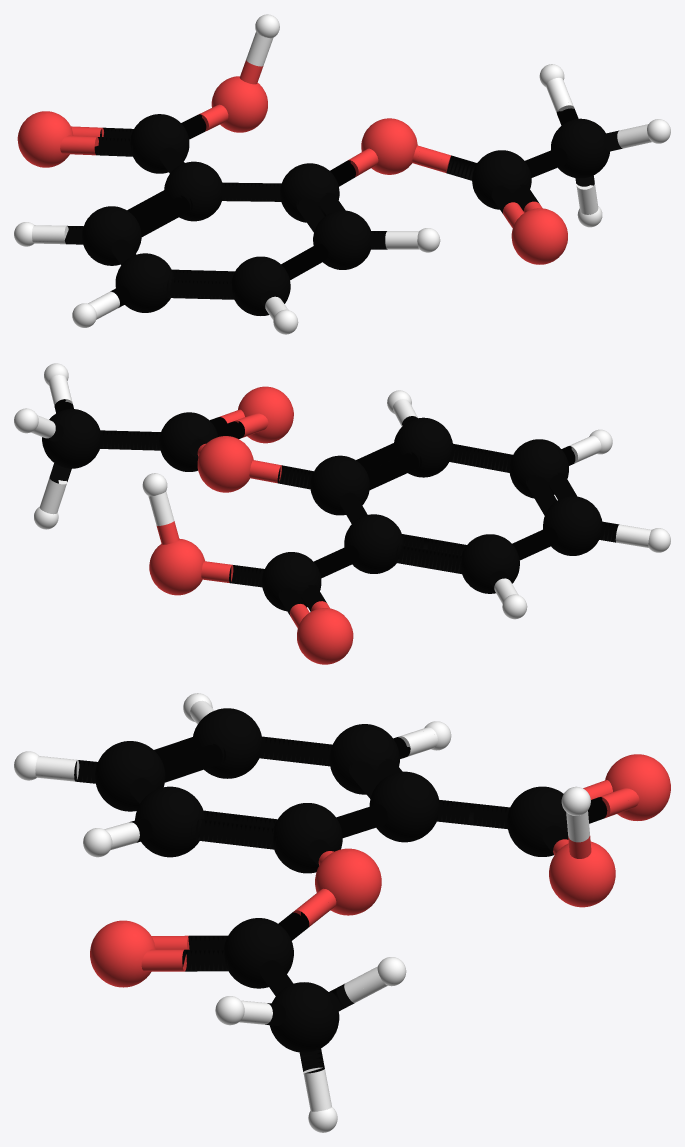
File: 乙酰水杨酸.glb
3 renders of one model, top to bottom at view 1: azimuth 30°, elevation 25°; view 2: azimuth 150°, elevation 25°; view 3: azimuth 270°, elevation 25°, orthographic. The views are drawn at different scales.
Parts seen in each view (by area): view 1: Carbon_ball.005, Carbon_ball.001, Oxygen_ball.003, Carbon_ball.015, Carbon_ball.011, Carbon_ball.017, Carbon_ball.003, Carbon_ball.009, Oxygen_ball.007, Oxygen_ball.005, Carbon_ball.013, Oxygen_ball.001 (+7 smaller); view 2: Carbon_ball.001, Carbon_ball.009, Oxygen_ball.007, Oxygen_ball.001, Carbon_ball.011, Carbon_ball.015, Oxygen_ball.005, Carbon_ball.005, Carbon_ball.007, Carbon_ball.013, Carbon_ball.003, Carbon_ball.017 (+5 smaller); view 3: Carbon_ball.009, Carbon_ball.015, Carbon_ball.005, Carbon_ball.013, Carbon_ball.003, Carbon_ball.007, Carbon_ball.001, Oxygen_ball.001, Oxygen_ball.003, Oxygen_ball.005, Carbon_ball.017, Oxygen_ball.007 (+6 smaller).
Part boxes in pixels (x1,y1,x2,y2): Carbon_ball.005: [313, 210, 371, 269]; Carbon_ball.001: [115, 253, 174, 312]; Oxygen_ball.003: [511, 208, 567, 264]; Carbon_ball.015: [551, 118, 609, 178]; Carbon_ball.011: [82, 206, 141, 265]; Carbon_ball.017: [130, 114, 189, 173]; Carbon_ball.003: [231, 256, 290, 315]; Carbon_ball.009: [164, 161, 222, 221]; Oxygen_ball.007: [17, 111, 73, 167]; Oxygen_ball.005: [211, 76, 267, 132]; Carbon_ball.013: [472, 150, 531, 209]; Oxygen_ball.001: [361, 118, 417, 174]; Carbon_ball.001: [543, 496, 602, 555]; Carbon_ball.009: [344, 514, 403, 573]; Oxygen_ball.007: [297, 608, 353, 664]; Oxygen_ball.001: [197, 436, 253, 492]; Carbon_ball.011: [460, 534, 519, 593]; Carbon_ball.015: [42, 409, 100, 468]; Oxygen_ball.005: [149, 538, 204, 595]; Carbon_ball.005: [394, 417, 452, 477]; Carbon_ball.007: [311, 455, 368, 513]; Carbon_ball.013: [159, 412, 218, 471]; Carbon_ball.003: [509, 439, 568, 498]; Carbon_ball.017: [262, 552, 321, 611]; Carbon_ball.009: [369, 771, 439, 842]; Carbon_ball.015: [270, 982, 339, 1052]; Carbon_ball.005: [135, 786, 205, 857]; Carbon_ball.013: [223, 918, 293, 988]; Carbon_ball.003: [95, 741, 165, 811]; Carbon_ball.007: [273, 803, 342, 873]; Carbon_ball.001: [193, 708, 262, 778]; Oxygen_ball.001: [315, 848, 381, 915]; Oxygen_ball.003: [90, 920, 155, 987]; Oxygen_ball.005: [549, 841, 615, 907]; Carbon_ball.017: [507, 786, 568, 856]; Oxygen_ball.007: [605, 754, 670, 820].
Bounding box in the file's own units: 9.07 × 2.63 × 7.16.
